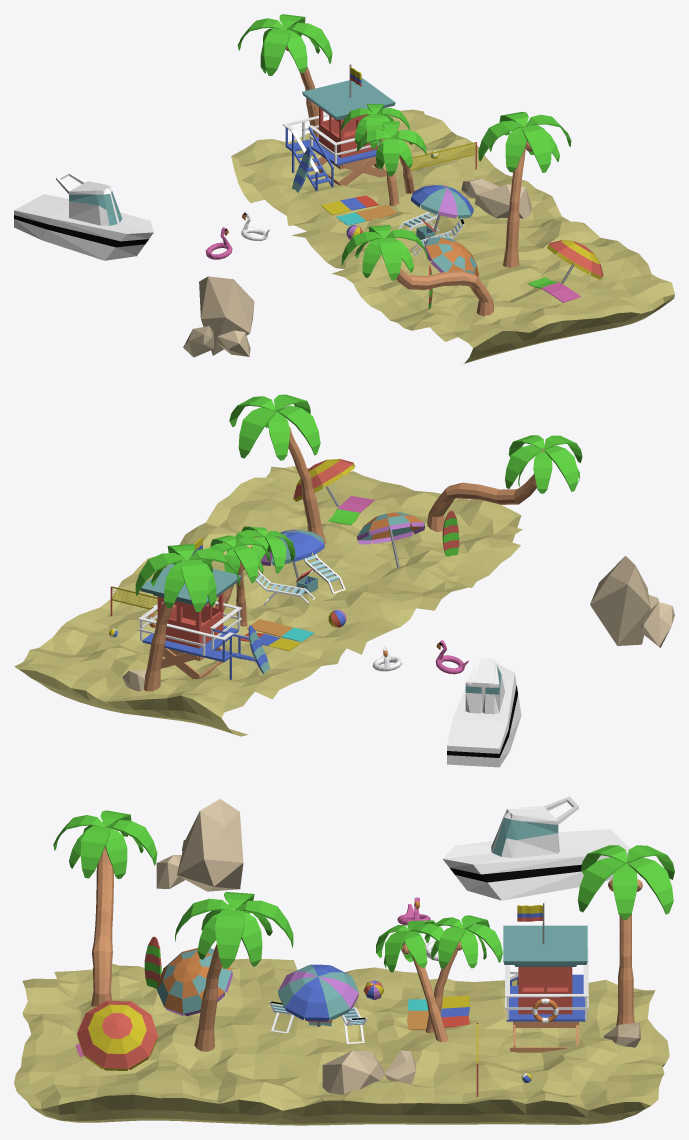
Rendered from playa.glb.
3 views of the same model, one above another, from view 1: azimuth 30°, elevation 25°; view 2: azimuth 150°, elevation 25°; view 3: azimuth 270°, elevation 25° (orthographic). The views are drawn at different scales.
Visible parts, largest first — view 1: Sand-material, White-material.001, R1-material, Green-material.004, Green-material.005, Green-material.006, LightBlue-material.004, Green-material, Brown-material.004, Blue-material.003, Brown-material.002, Red-material.004 (+11 smaller); view 2: Sand-material, White-material.001, R1-material, Green-material.004, Green-material.005, Green-material.006, Brown-material.004, Red-material.004, Green-material.002, Blue-material.003, Green-material, Brown-material.002 (+9 smaller); view 3: Sand-material, R1-material, White-material.001, Green-material.004, Green-material.005, Green-material.006, LightBlue-material.004, Red-material.003, Brown-material.004, Green-material.002, Red-material.004, Green-material (+15 smaller).
Boxes of the visible parts, left/top/right/bottom form: Sand-material: left=231, top=109, right=674, bottom=363; White-material.001: left=14, top=171, right=153, bottom=260; R1-material: left=183, top=178, right=531, bottom=357; Green-material.004: left=478, top=111, right=571, bottom=172; Green-material.005: left=237, top=14, right=332, bottom=75; Green-material.006: left=341, top=225, right=427, bottom=280; LightBlue-material.004: left=302, top=78, right=395, bottom=119; Green-material: left=356, top=121, right=426, bottom=176; Brown-material.004: left=384, top=238, right=494, bottom=315; Blue-material.003: left=285, top=127, right=379, bottom=190; Brown-material.002: left=503, top=126, right=532, bottom=267; Red-material.004: left=319, top=107, right=378, bottom=157; Sand-material: left=14, top=466, right=522, bottom=736; White-material.001: left=447, top=658, right=521, bottom=767; R1-material: left=122, top=556, right=674, bottom=691; Green-material.004: left=229, top=394, right=320, bottom=460; Green-material.005: left=135, top=544, right=240, bottom=612; Green-material.006: left=505, top=435, right=582, bottom=493; Brown-material.004: left=427, top=448, right=544, bottom=531; Red-material.004: left=157, top=593, right=223, bottom=648; Green-material.002: left=207, top=535, right=270, bottom=583; Blue-material.003: left=142, top=625, right=255, bottom=679; Green-material: left=227, top=526, right=295, bottom=572; Brown-material.002: left=288, top=427, right=325, bottom=543; Sand-material: left=14, top=958, right=669, bottom=1125; R1-material: left=156, top=799, right=641, bottom=1094; White-material.001: left=443, top=796, right=629, bottom=900; Green-material.004: left=175, top=892, right=293, bottom=968; Green-material.005: left=578, top=845, right=674, bottom=919; Green-material.006: left=53, top=810, right=157, bottom=878; LightBlue-material.004: left=503, top=925, right=587, bottom=966; Red-material.003: left=77, top=1000, right=157, bottom=1068; Brown-material.004: left=91, top=826, right=113, bottom=1006; Green-material.002: left=424, top=915, right=502, bottom=968; Red-material.004: left=518, top=967, right=572, bottom=1014; Green-material: left=376, top=920, right=444, bottom=972.
Bounding box in the file's own units: 118 × 42.16 × 127.
